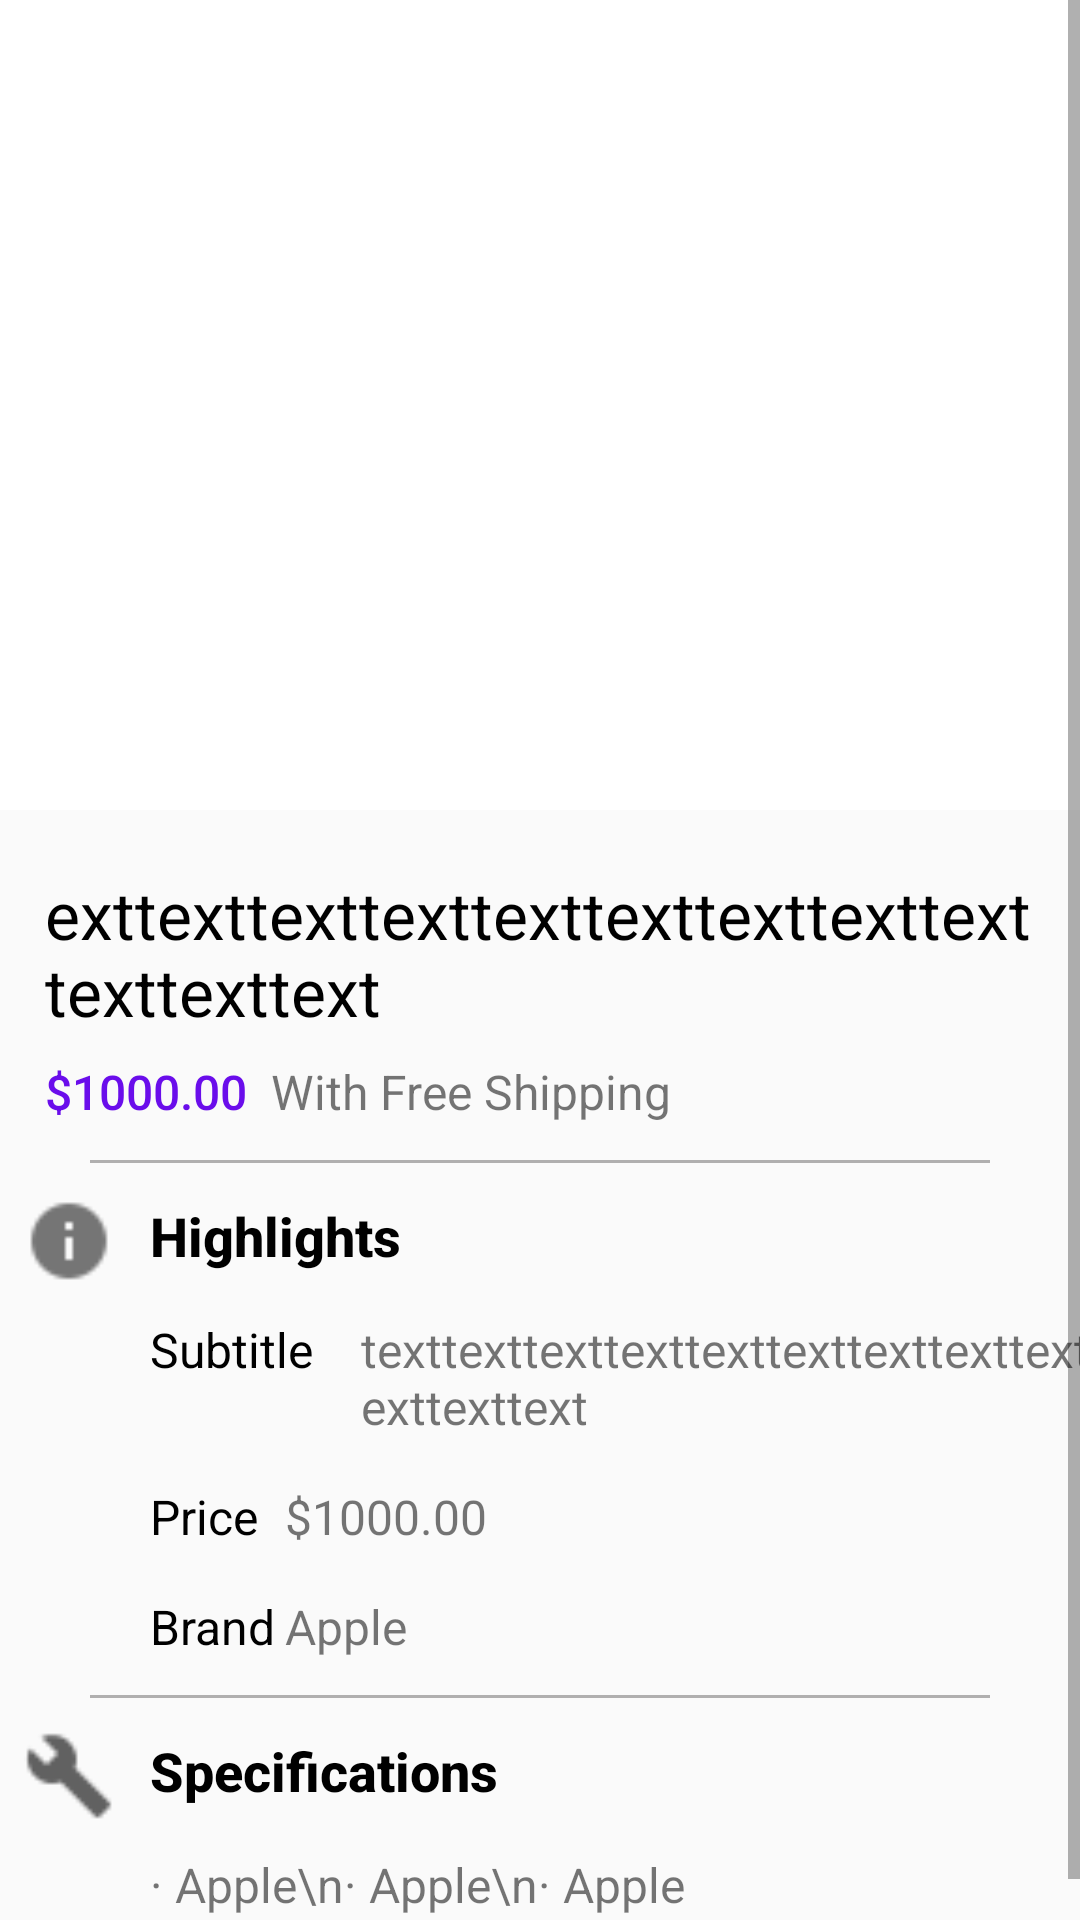

Named icons in this screenshot (1080px x 1920px) and their bounding boxes, (x1, y1, x2, y2):
information: (30, 1202, 108, 1280)
wrench: (26, 1734, 111, 1818)
